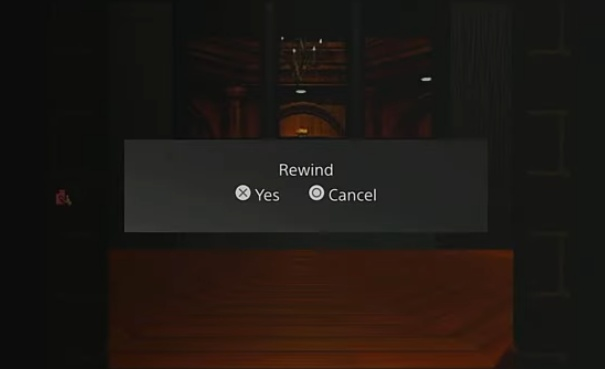Keep: (52, 186, 75, 210)
